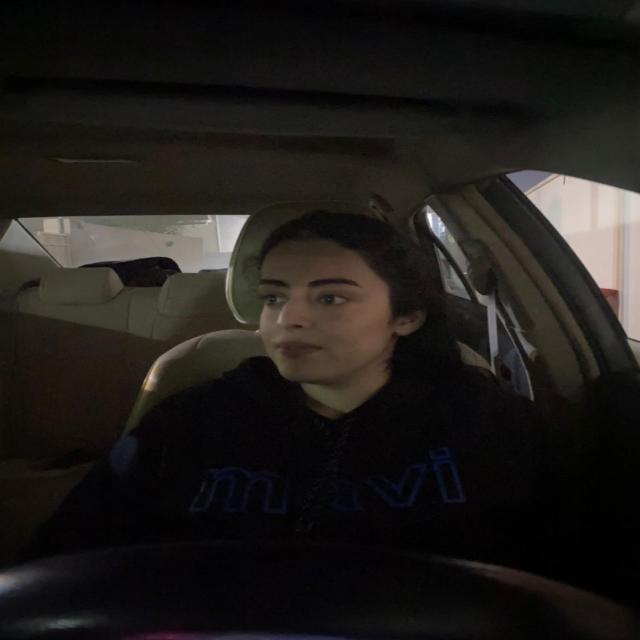person: (252, 212, 441, 398)
